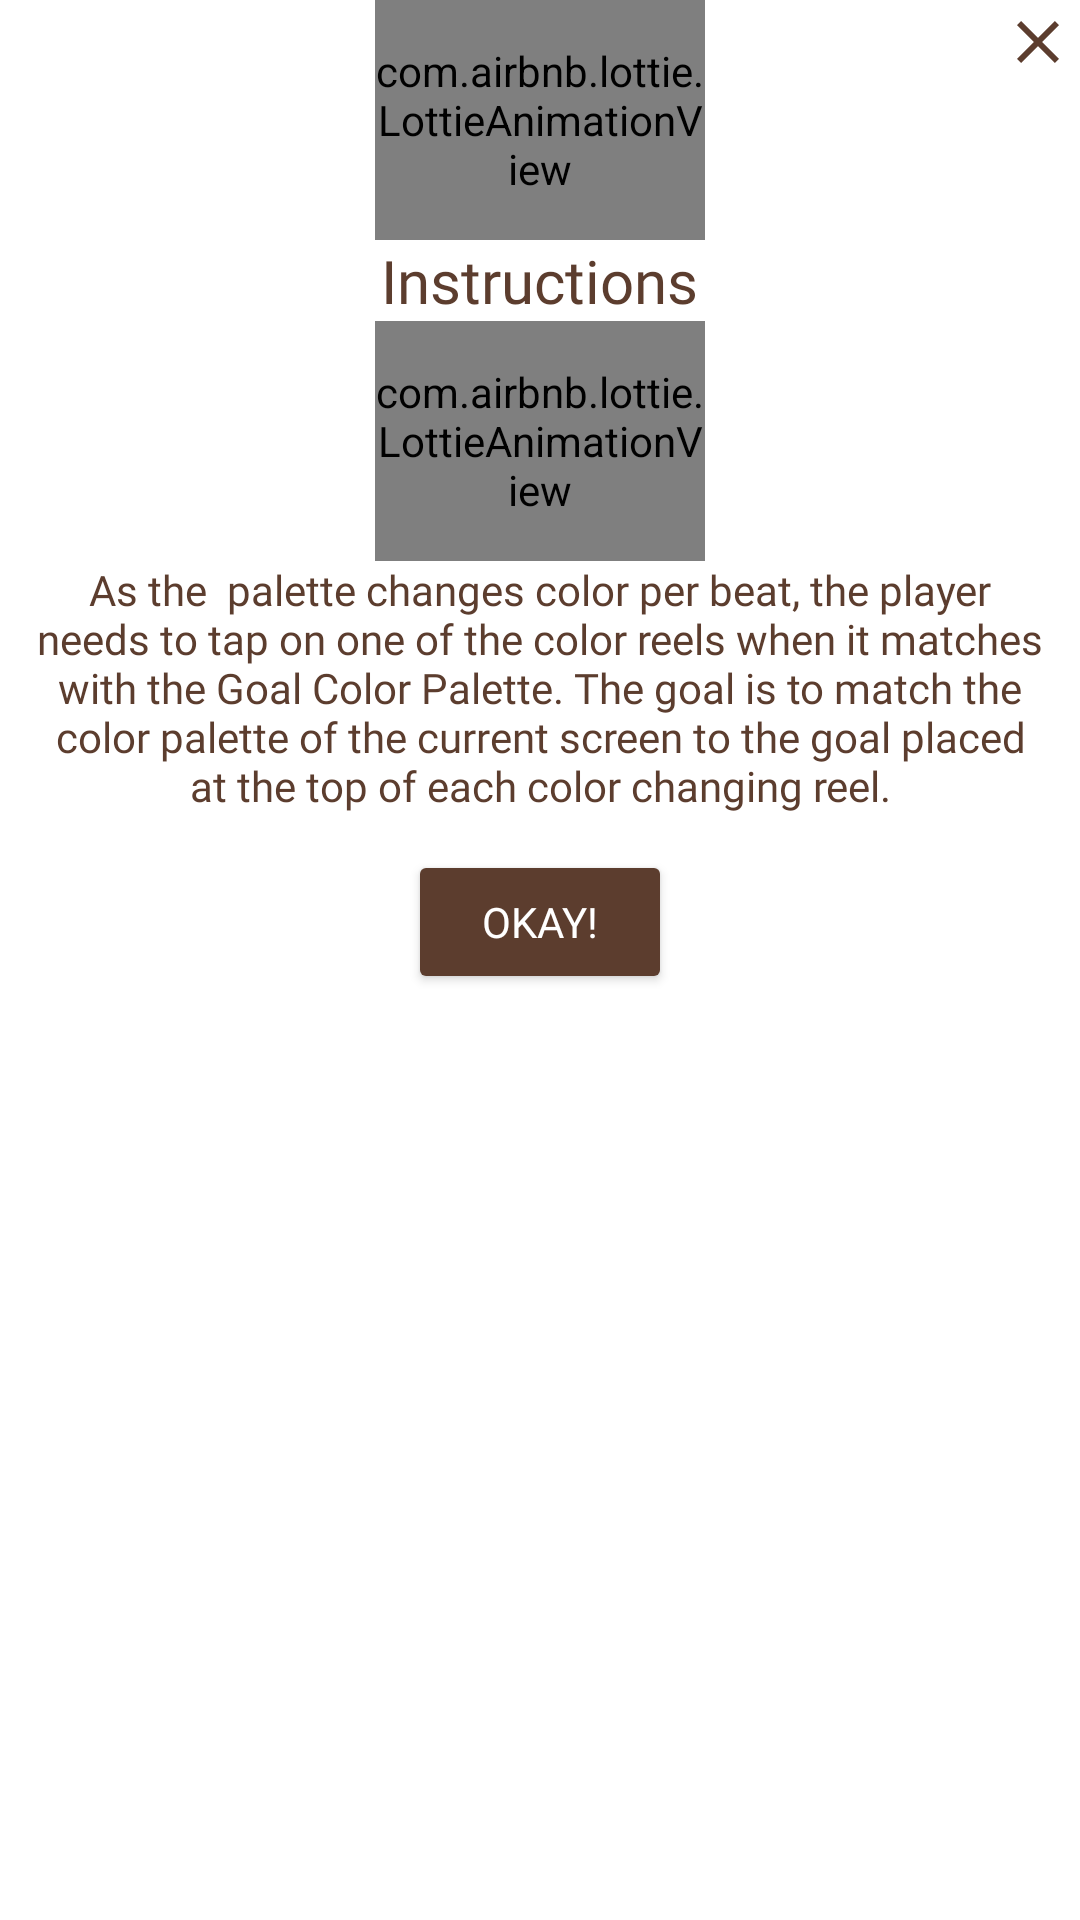

Icon click points for this 1080w x 1920h phone screenshot, format (x,y):
clear: (1038,42)
